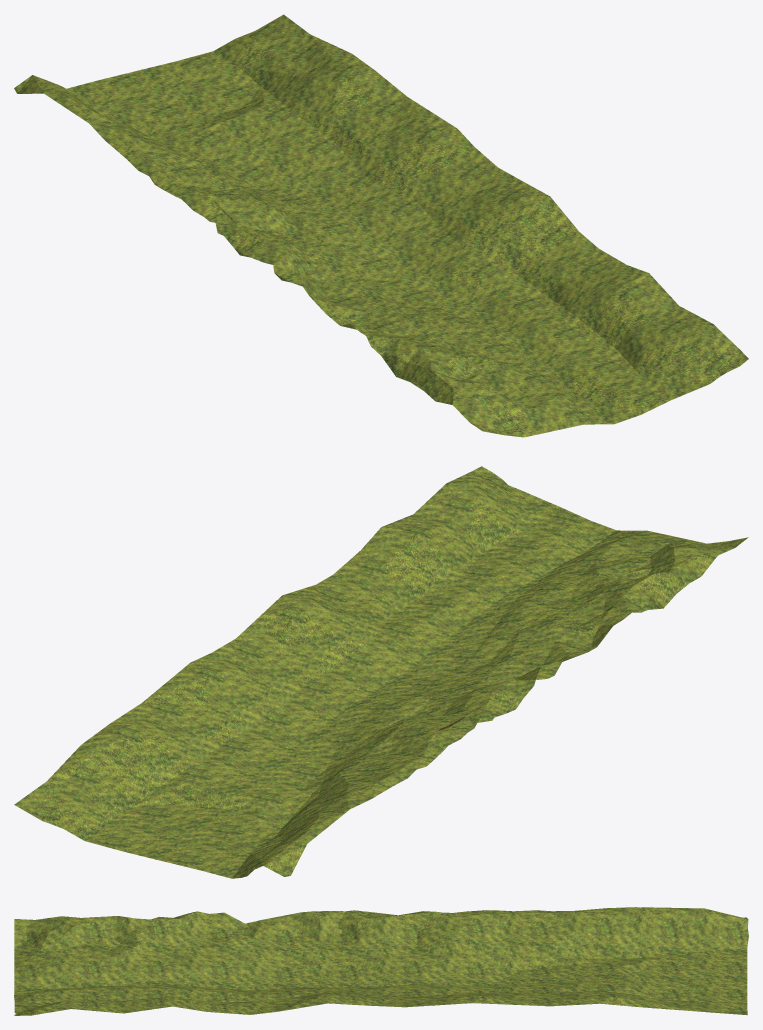
File: CapstoneLandscape.glb
The picture shows the model from 3 angles, top to bottom: view 1: azimuth 30°, elevation 25°; view 2: azimuth 150°, elevation 25°; view 3: azimuth 270°, elevation 25°; orthographic projection. The views are drawn at different scales.
Parts seen in each view (by area): view 1: Landscape.001; view 2: Landscape.001; view 3: Landscape.001.
Part boxes in pixels (bbox=[...]): Landscape.001: bbox=[14, 14, 748, 437]; Landscape.001: bbox=[14, 466, 748, 878]; Landscape.001: bbox=[14, 907, 748, 1015].
Size of the model in its own units: 2.03 by 0.3456 by 6.02.
1 material, 1 textured.
